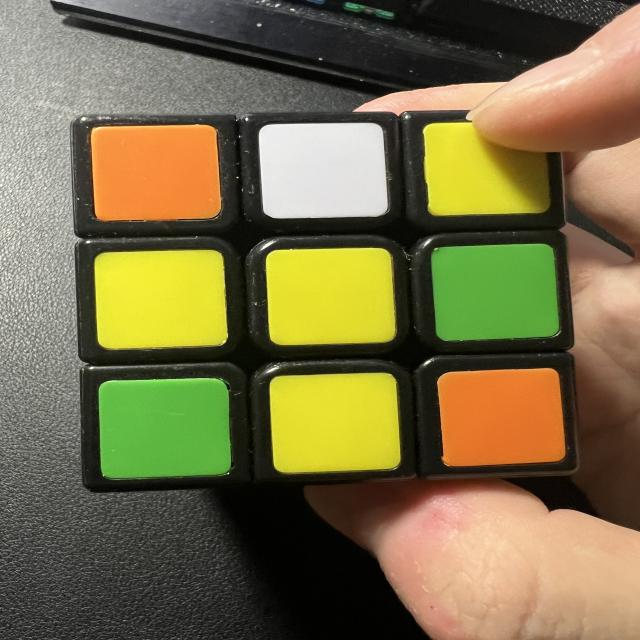center: (267, 246, 398, 346)
green: (98, 377, 231, 480), (430, 242, 560, 342)
orange: (90, 121, 222, 224), (437, 366, 566, 468)
white: (258, 122, 388, 219)
yellow: (93, 248, 228, 351), (268, 371, 401, 474), (422, 119, 551, 217)
